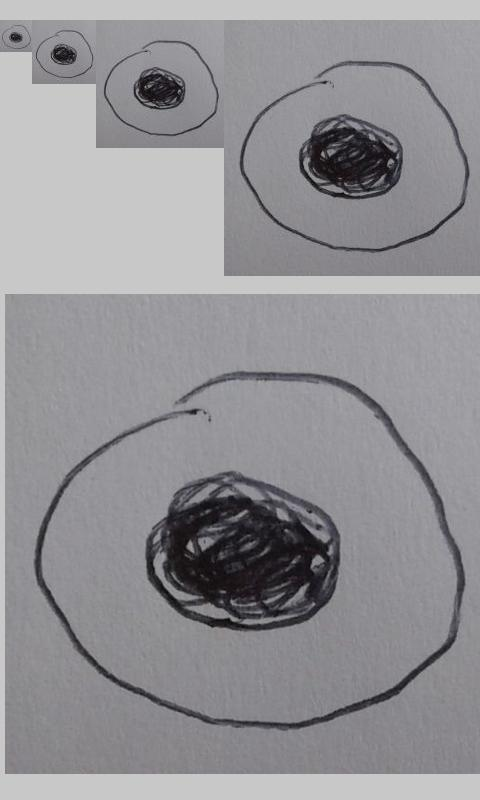radio_button: (30, 368, 467, 732), (237, 58, 471, 253), (101, 38, 219, 138), (34, 28, 94, 79), (1, 23, 31, 50)
